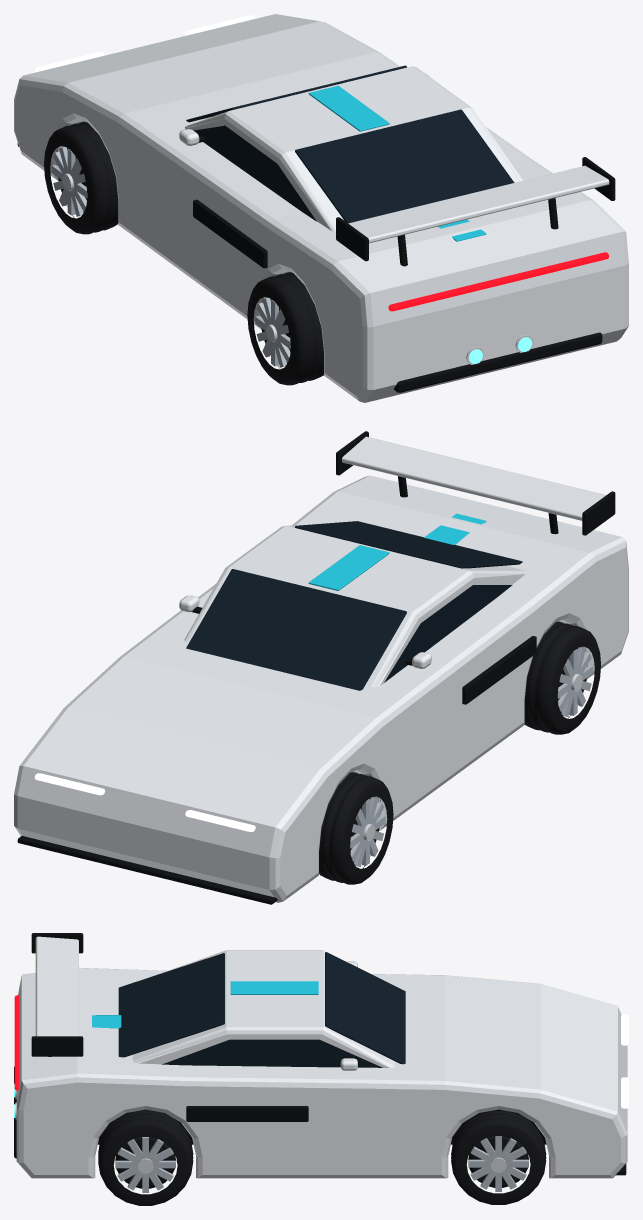
The model's file is nova-coupe.glb.
3 renders of one model, top to bottom at view 1: azimuth 30°, elevation 25°; view 2: azimuth 150°, elevation 25°; view 3: azimuth 270°, elevation 25°, orthographic. The views are drawn at different scales.
Visible parts, largest first — view 1: Body, RearWindow, Cabin, Tire (×2), Wing, SideGlass, Diffuser, TailLight, RoofStripe, SideChannel, WingEndplate, Windscreen; view 2: Body, Windscreen, Cabin, Tire (×2), Wing, RearWindow, SideGlass, Splitter, RoofStripe, SideChannel, WingEndplate, DeckStripe; view 3: Body, Cabin, Tire (×2), RearWindow, Windscreen, Wing, SideGlass, SideChannel, WingEndplate (×2), RimDish (×2), RoofStripe, TailLight (+2 smaller).
Boxes of the visible parts, x1=… form: Body: x1=14, y1=14, x2=628, y2=402; RearWindow: x1=295, y1=109, x2=514, y2=223; Cabin: x1=185, y1=66, x2=523, y2=231; Tire (×2): x1=44, y1=122, x2=323, y2=385; Wing: x1=348, y1=165, x2=609, y2=243; SideGlass: x1=194, y1=125, x2=316, y2=221; Diffuser: x1=394, y1=332, x2=602, y2=392; TailLight: x1=388, y1=252, x2=608, y2=311; RoofStripe: x1=308, y1=85, x2=389, y2=131; SideChannel: x1=193, y1=199, x2=267, y2=268; WingEndplate: x1=336, y1=217, x2=368, y2=261; Windscreen: x1=186, y1=65, x2=406, y2=122; Body: x1=14, y1=475, x2=628, y2=902; Windscreen: x1=186, y1=569, x2=406, y2=690; Cabin: x1=184, y1=525, x2=526, y2=687; Tire (×2): x1=319, y1=621, x2=600, y2=884; Wing: x1=342, y1=436, x2=605, y2=520; RearWindow: x1=295, y1=521, x2=522, y2=568; SideGlass: x1=384, y1=585, x2=512, y2=682; Splitter: x1=17, y1=836, x2=277, y2=904; RoofStripe: x1=308, y1=545, x2=389, y2=590; SideChannel: x1=462, y1=636, x2=536, y2=704; WingEndplate: x1=582, y1=491, x2=615, y2=535; DeckStripe: x1=424, y1=513, x2=486, y2=544; Body: x1=16, y1=967, x2=627, y2=1178; Cabin: x1=132, y1=950, x2=394, y2=1067; Tire (×2): x1=98, y1=1109, x2=546, y2=1205; RearWindow: x1=118, y1=953, x2=224, y2=1057; Windscreen: x1=325, y1=952, x2=405, y2=1064; Wing: x1=35, y1=936, x2=78, y2=1036; SideGlass: x1=162, y1=1039, x2=382, y2=1067; SideChannel: x1=186, y1=1106, x2=308, y2=1121; WingEndplate (×2): x1=31, y1=933, x2=83, y2=1056; RimDish (×2): x1=115, y1=1136, x2=528, y2=1188; RoofStripe: x1=230, y1=981, x2=318, y2=994; TailLight: x1=14, y1=995, x2=19, y2=1090.
Size of the model in its own units: 2.25 by 1.3 by 4.53.
